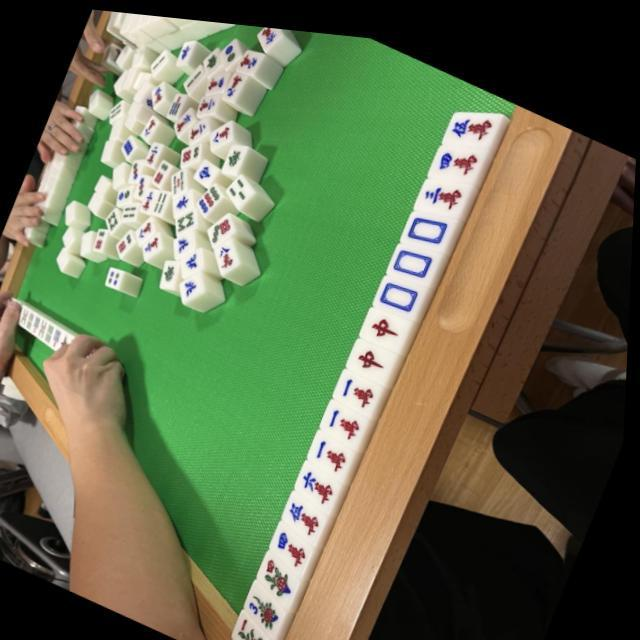bf3: (245, 580, 294, 624)
bs1: (230, 607, 282, 640)
bs4: (260, 548, 310, 594)
hdr: (366, 298, 412, 341), (352, 330, 398, 373)
hdw: (391, 229, 442, 276), (376, 264, 426, 310), (404, 198, 454, 242)
sc1: (310, 423, 358, 468), (324, 392, 372, 436), (336, 360, 383, 403)
sc3: (420, 162, 470, 208)
sc4: (434, 128, 486, 176), (272, 518, 321, 562)
sc5: (446, 90, 499, 141), (284, 489, 333, 534)
sc6: (298, 459, 345, 502)
